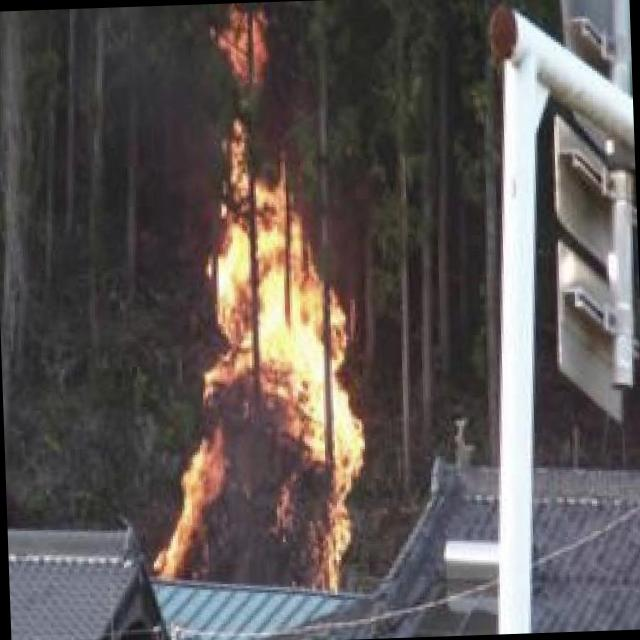Fire: (146, 132, 370, 586)
